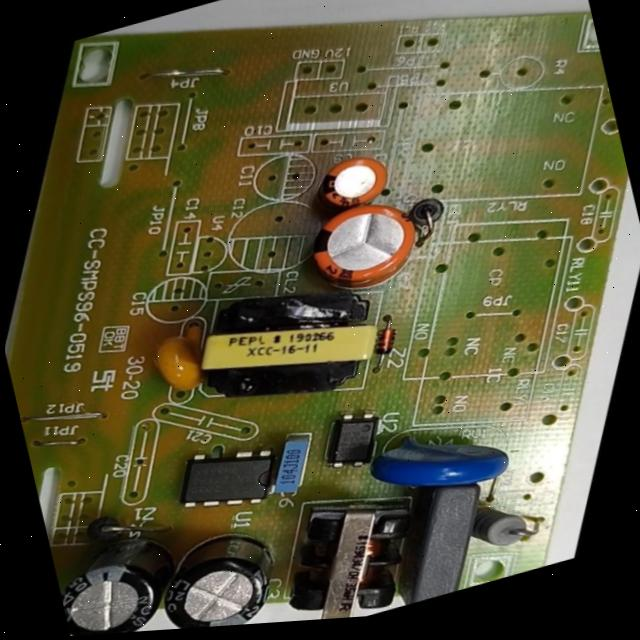Cap1: (273, 169, 454, 320)
Cap2: (288, 127, 418, 233)
Cap3: (134, 502, 309, 632)
Cap4: (50, 507, 202, 637)
MOSFET: (153, 416, 299, 537)
Mov: (345, 396, 536, 531)
Resistor: (447, 483, 558, 573)
Transformer: (161, 248, 412, 444), (250, 466, 448, 624)
